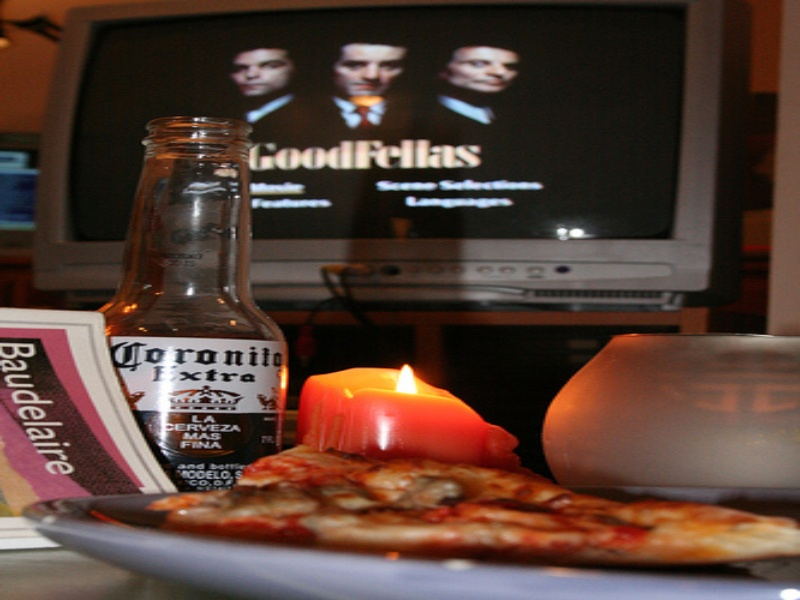person: (426, 40, 521, 138), (319, 41, 411, 139), (227, 44, 307, 141)
